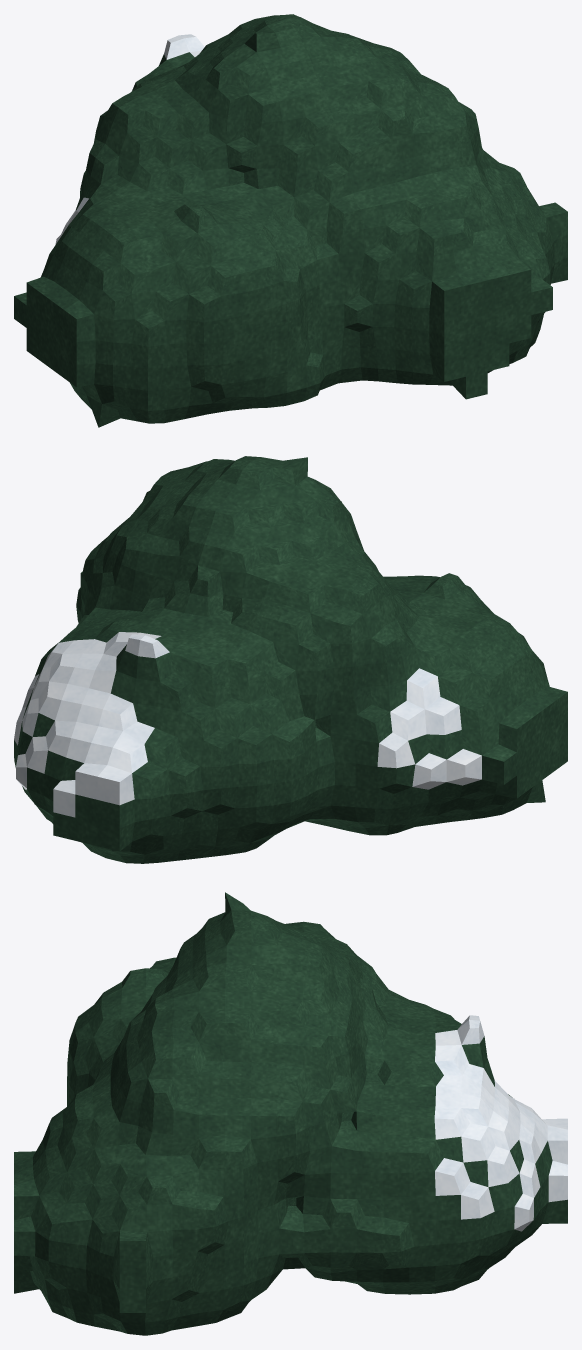
File: shrub_juniper_snow.glb
3 views of the same model, one above another, from view 1: azimuth 30°, elevation 25°; view 2: azimuth 150°, elevation 25°; view 3: azimuth 270°, elevation 25° (orthographic). The views are drawn at different scales.
Visible parts, largest first — view 1: wilds_shrub_juniper_snow; view 2: wilds_shrub_juniper_snow; view 3: wilds_shrub_juniper_snow.
Part boxes in pixels (<box>): wilds_shrub_juniper_snow: <box>14,14,567,427</box>; wilds_shrub_juniper_snow: <box>14,456,567,863</box>; wilds_shrub_juniper_snow: <box>14,892,567,1335</box>.
Size of the model in its own units: 1.38 by 0.875 by 1.31.
Materials: 1 (1 with a texture image).
